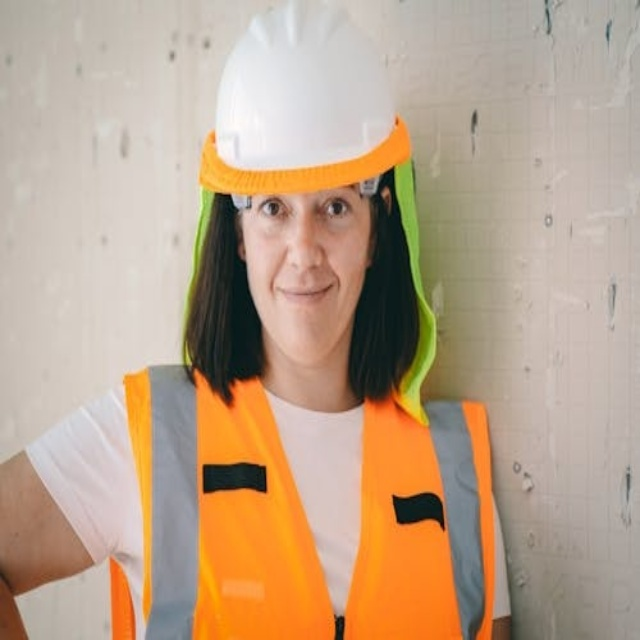Sin_gafas: (250, 189, 361, 237)
Sin_mascara: (265, 270, 348, 323)
